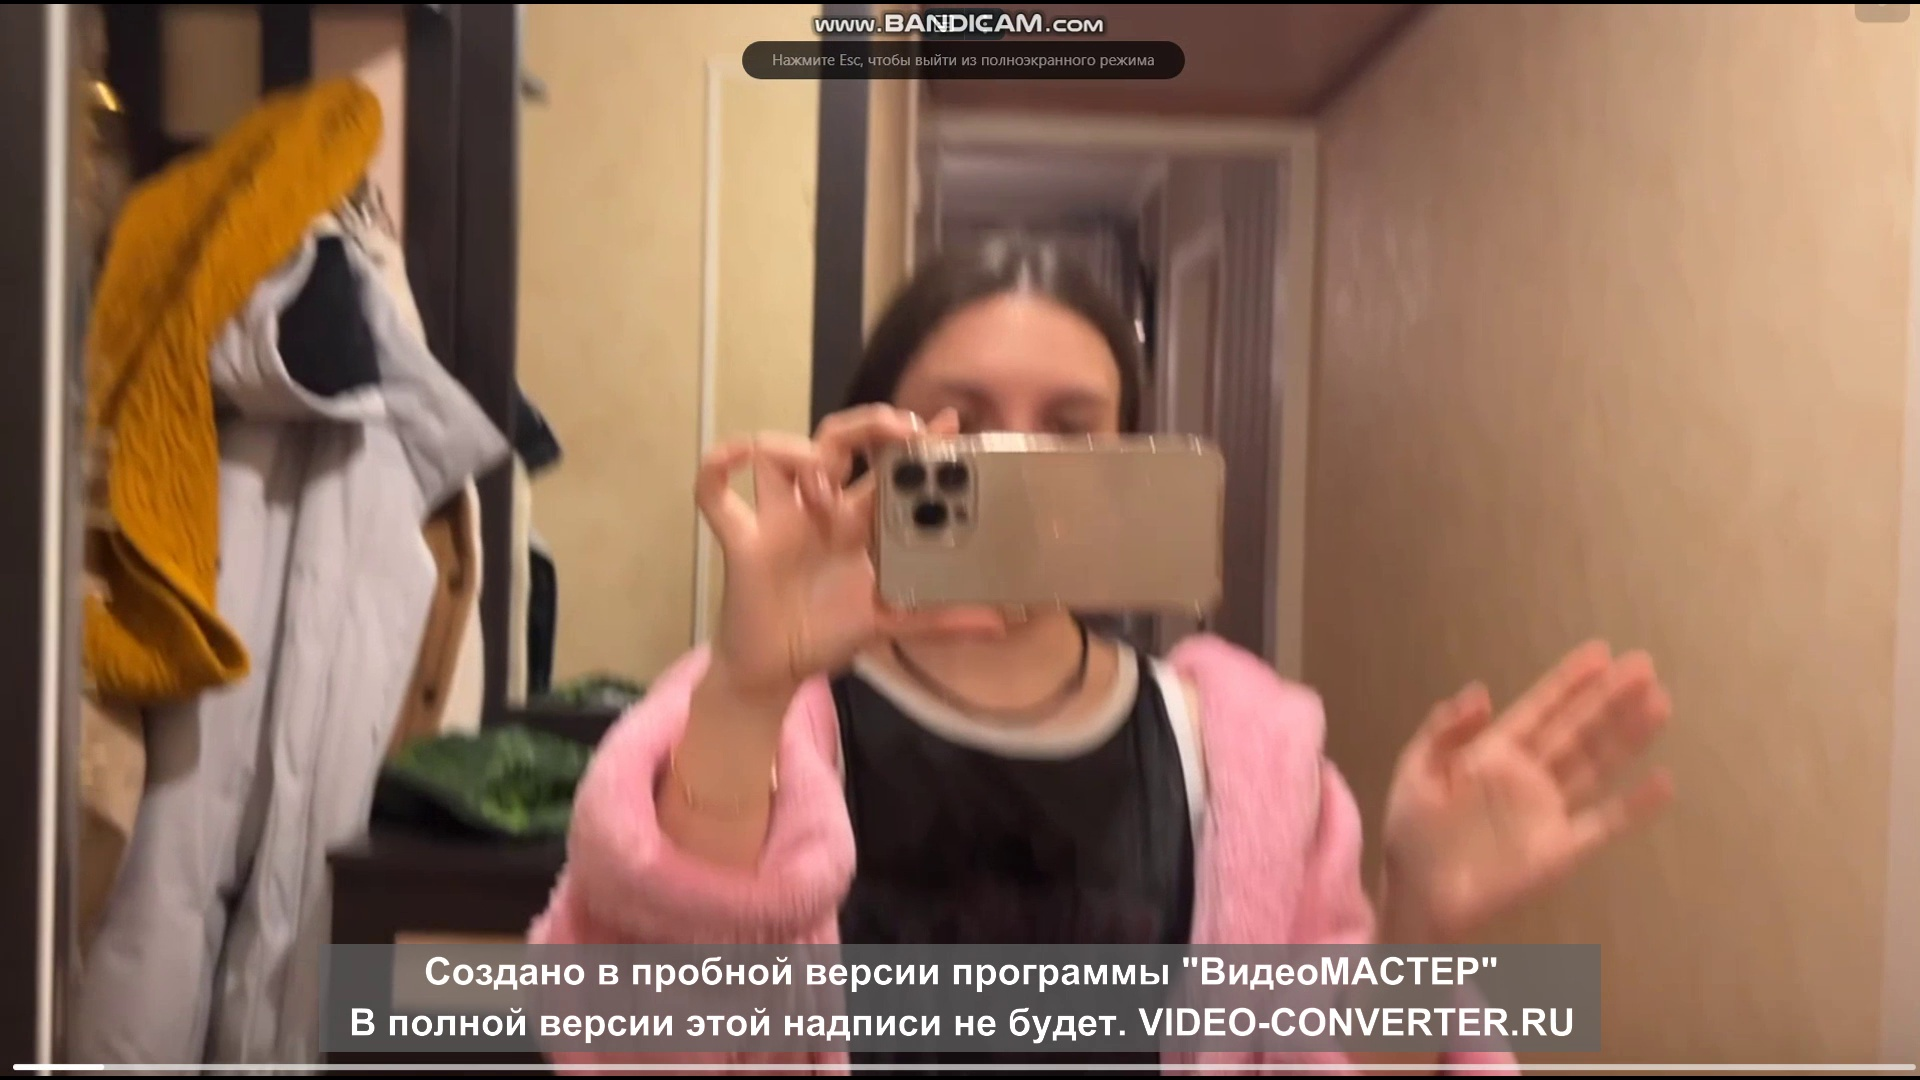Ладонь: (1379, 630, 1672, 926)
